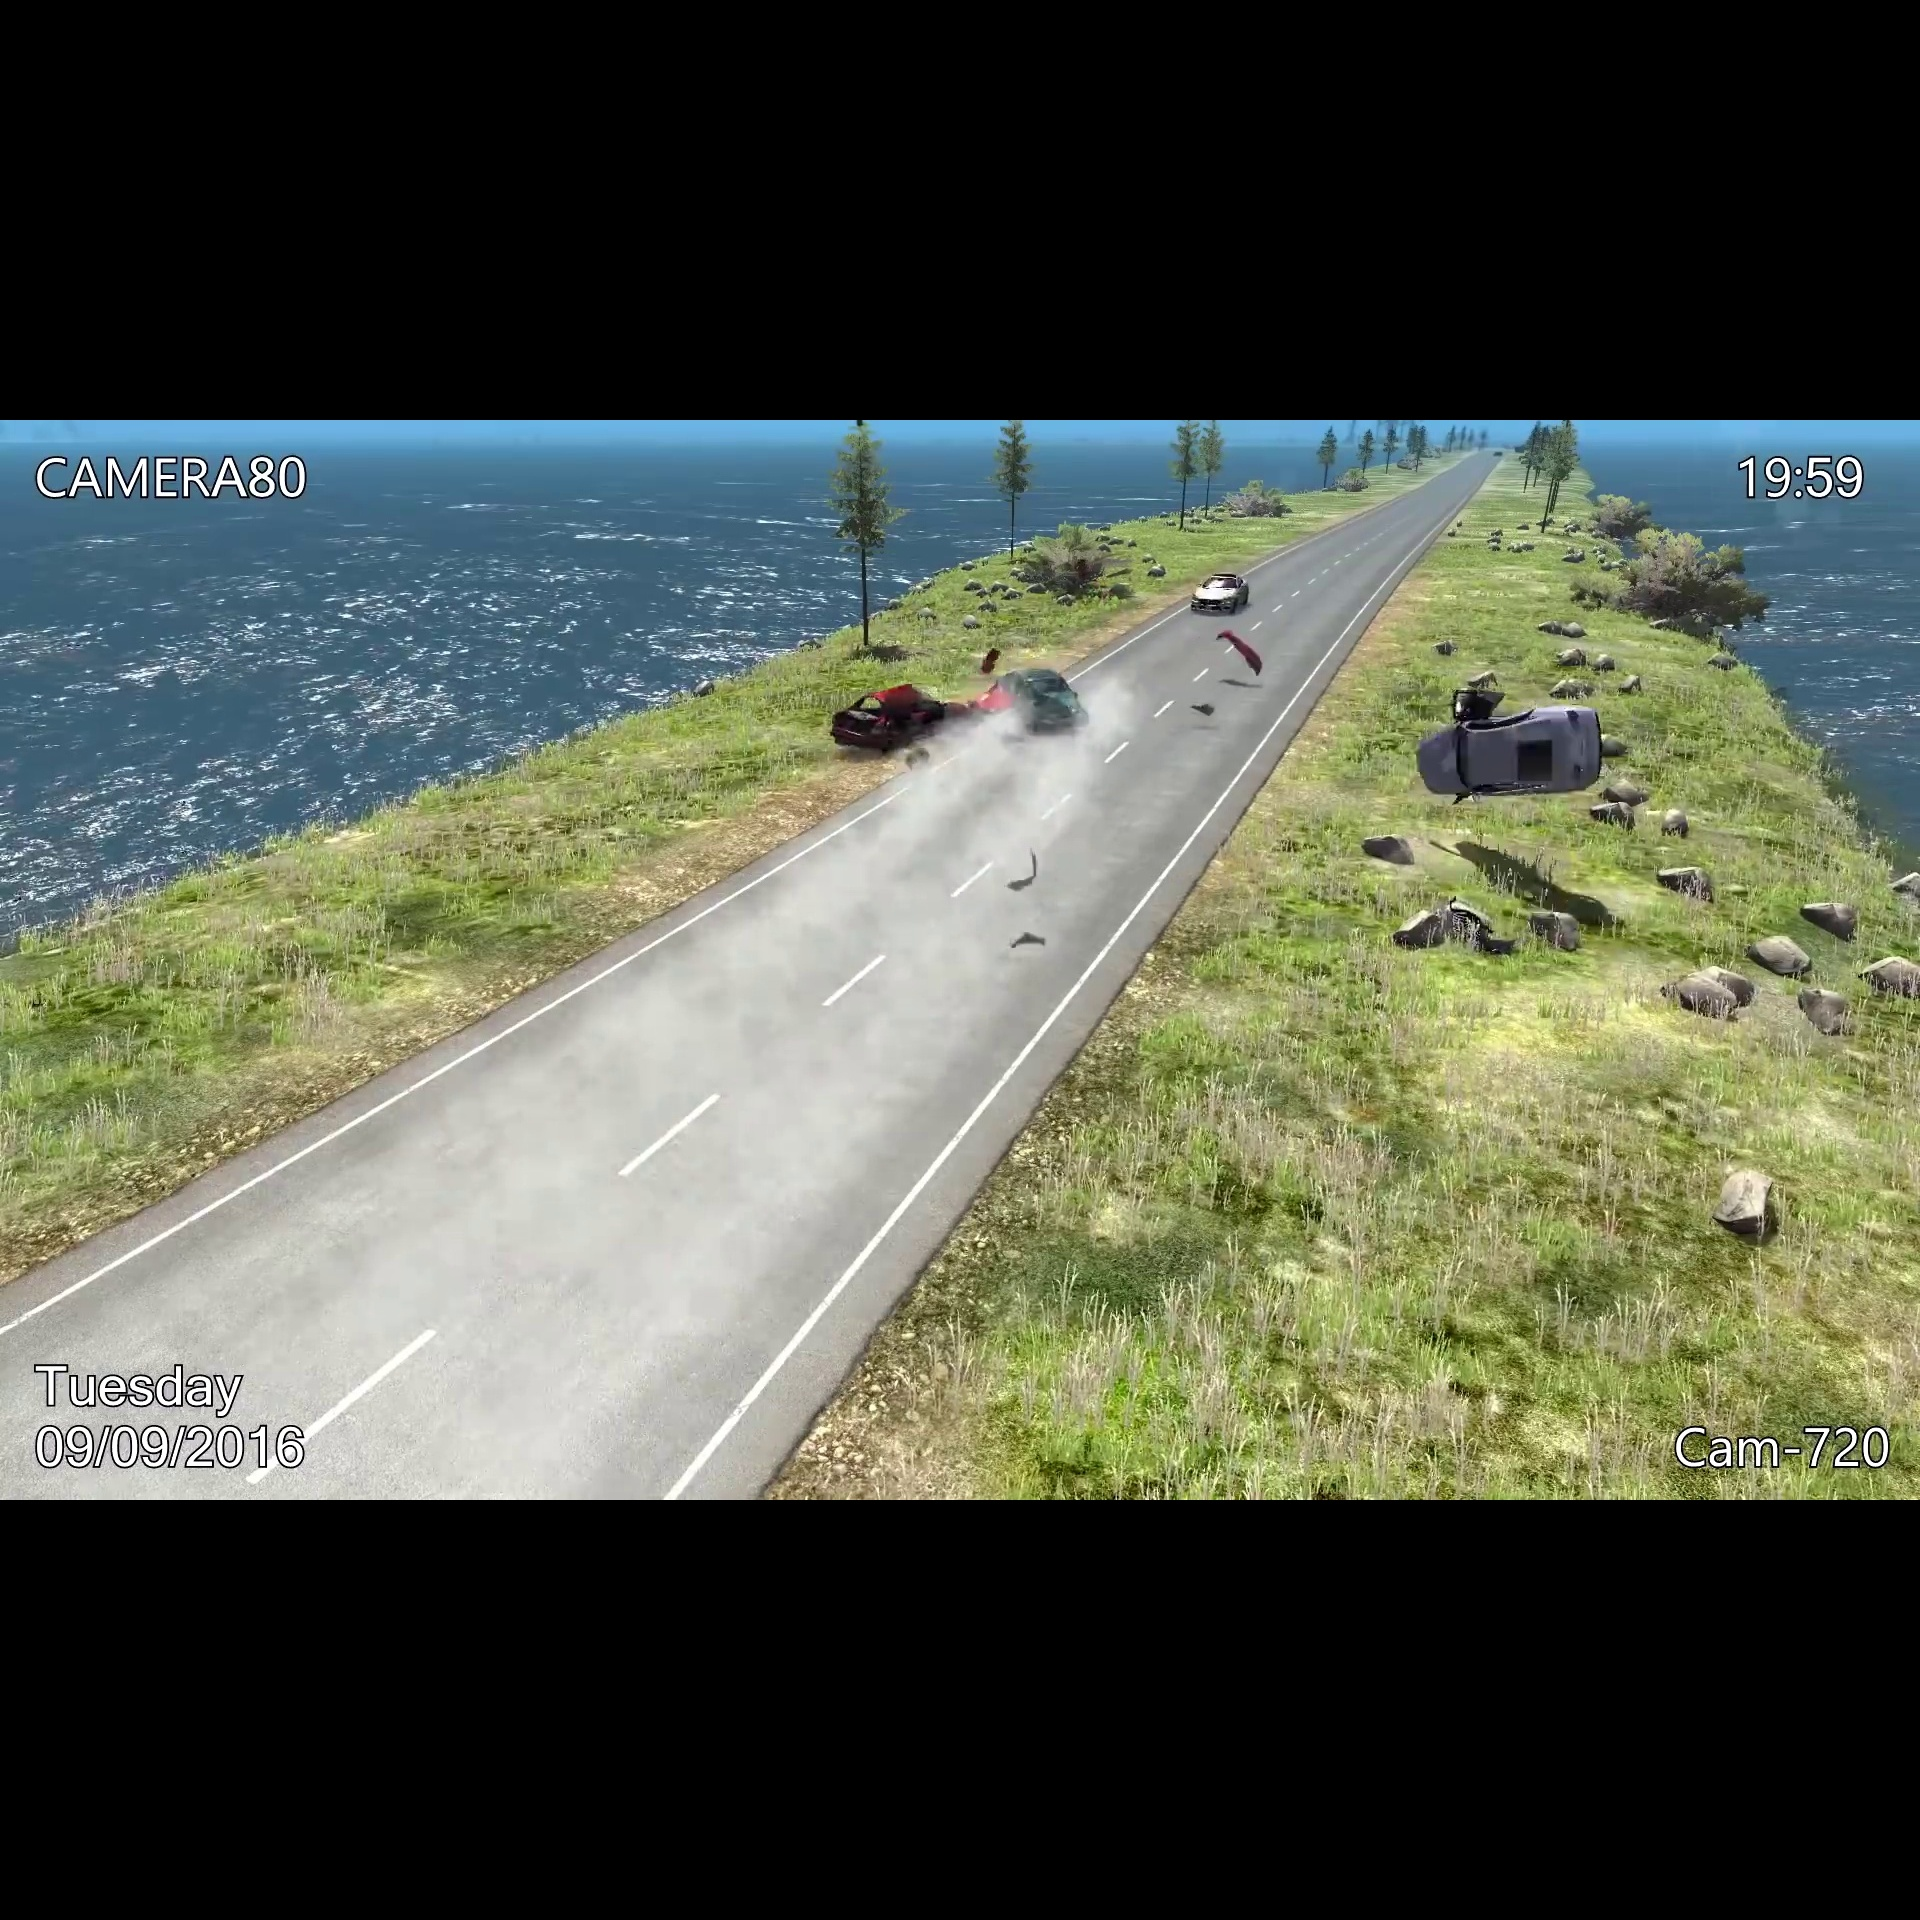vehicle: (1412, 696, 1611, 807), (832, 679, 979, 758), (976, 661, 1101, 744), (1189, 566, 1254, 626)
